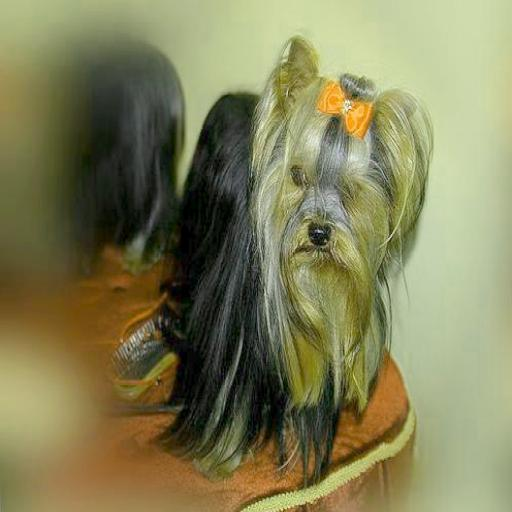dog_face: (256, 42, 426, 299)
